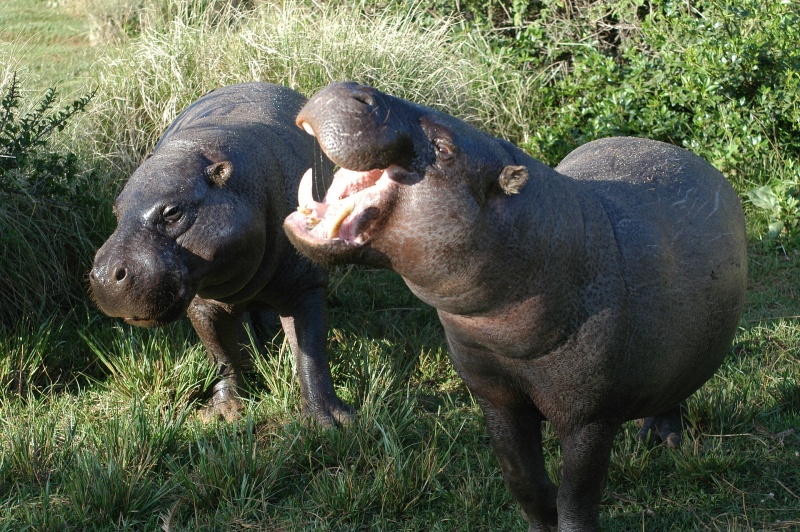hipopotamo: (284, 80, 752, 532), (85, 80, 364, 438)
